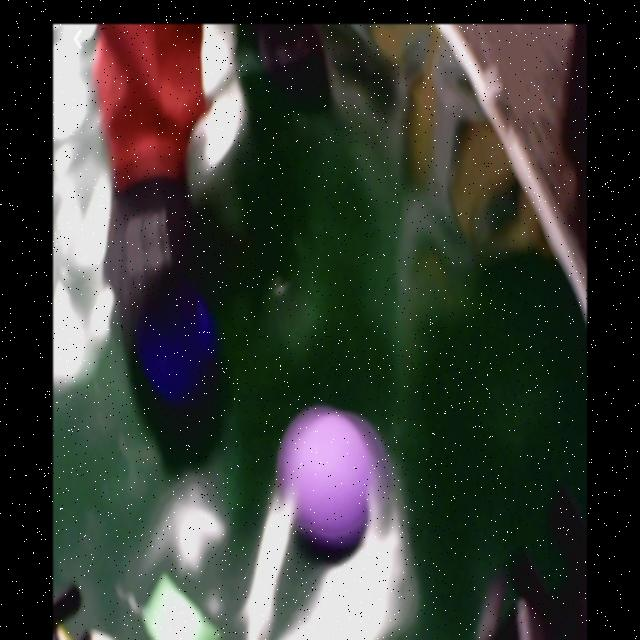ball: (288, 409, 372, 547), (143, 300, 214, 400)
